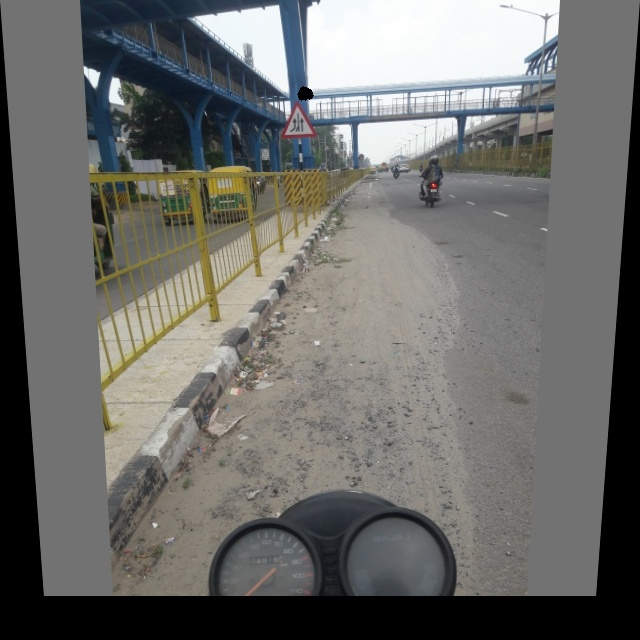Merge_Traffic_Ahead: (276, 91, 319, 142)
